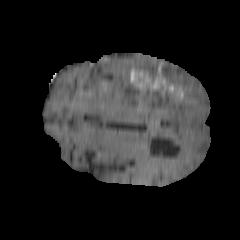glioma: (118, 54, 186, 130)
